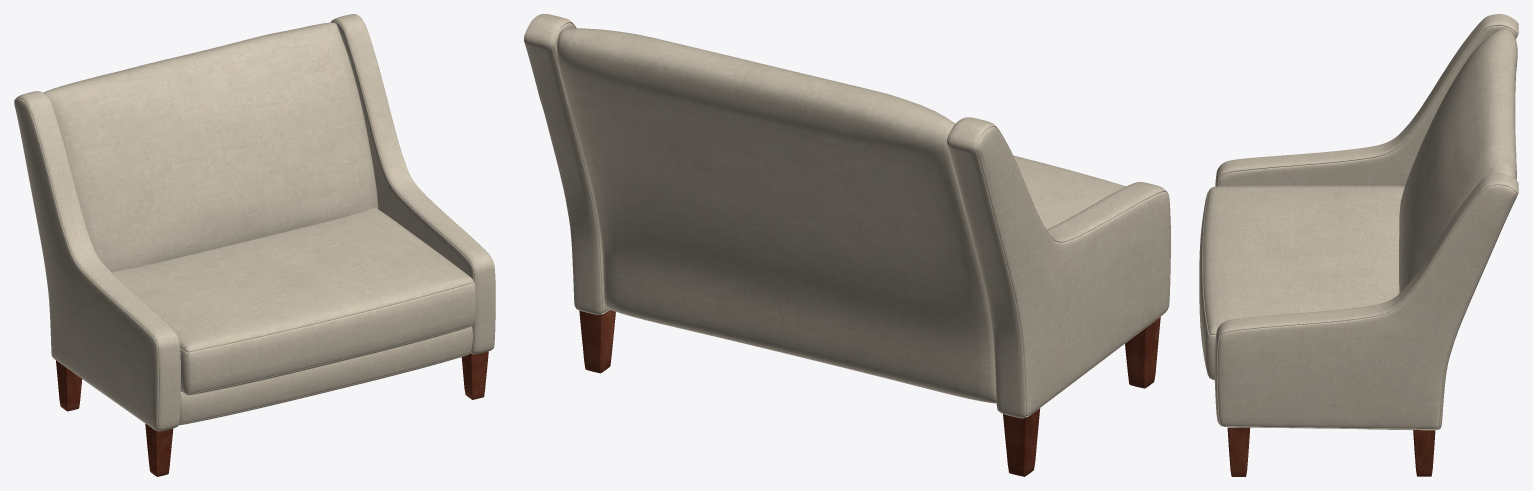
The model's file is abo-B075X4WBLM.glb.
3 renders of one model, left to right at view 1: azimuth 30°, elevation 25°; view 2: azimuth 150°, elevation 25°; view 3: azimuth 270°, elevation 25°, orthographic. The views are drawn at different scales.
Size of the model in its own units: 1.21 by 0.976 by 0.946.
Materials: 1 (1 with a texture image).
